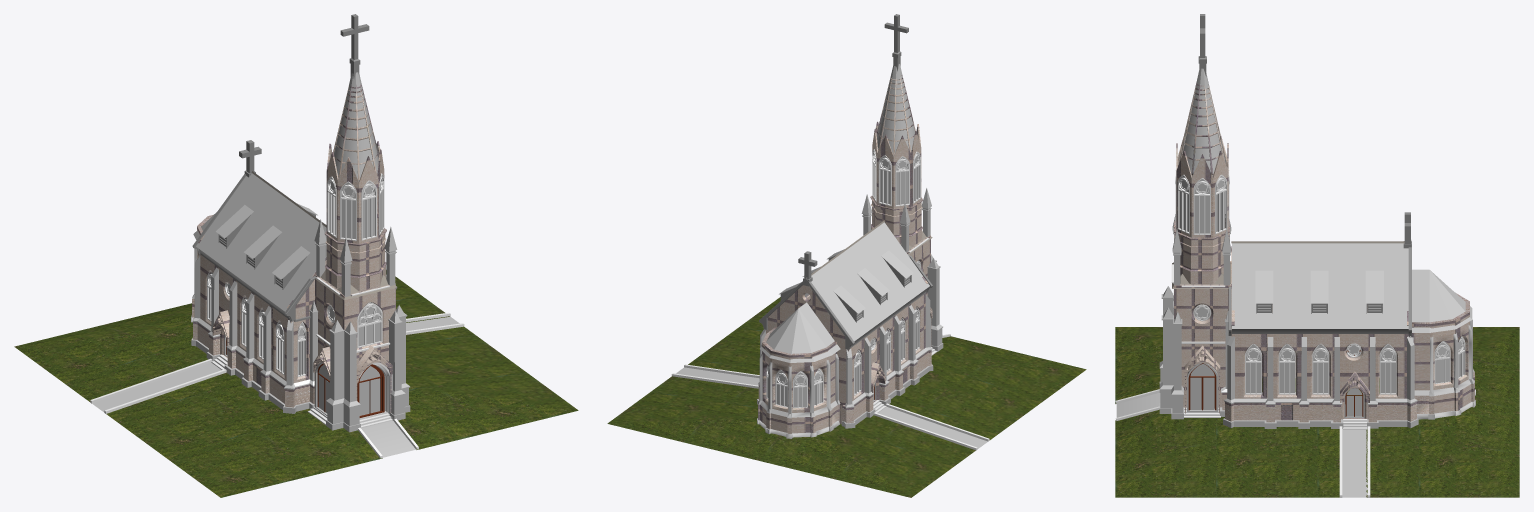
Rendered from Church.FBX.
3 views of the same model, side by side, from view 1: azimuth 30°, elevation 25°; view 2: azimuth 150°, elevation 25°; view 3: azimuth 270°, elevation 25° (orthographic). The views are drawn at different scales.
Visible parts, largest first — view 1: Plane002, Group001, STUTROOF, STUTBURE, STUTSTNA (×2), STUTMAIN, STUTSTFR, STUTBEFL, Cone001, STUTGL13; view 2: Plane002, Group001, STUTROOF, STUTMAIN, STUTAPSE, STUTSTNA (×2), STUTBURE, STUTROO1, Cone001, STUTGL13, STUTBEFL; view 3: Plane002, Group001, STUTROOF, STUTMAIN, STUTSTNA (×2), STUTBURE, STUTSTFR, STUTAPSE, STUTGL13, STUTROO1, Cone001, STUTBEFL (+2 smaller).
Boxes of the visible parts, bbox=[...] form: Plane002: bbox=[14, 270, 578, 497]; Group001: bbox=[90, 83, 464, 458]; STUTROOF: bbox=[196, 173, 326, 311]; STUTBURE: bbox=[207, 173, 392, 427]; STUTSTNA (×2): bbox=[192, 14, 397, 407]; STUTMAIN: bbox=[198, 235, 362, 383]; STUTSTFR: bbox=[315, 274, 395, 381]; STUTBEFL: bbox=[324, 228, 386, 290]; Cone001: bbox=[334, 72, 378, 180]; STUTGL13: bbox=[209, 272, 380, 374]; Plane002: bbox=[607, 297, 1086, 497]; Group001: bbox=[671, 75, 989, 450]; STUTROOF: bbox=[779, 222, 929, 341]; STUTMAIN: bbox=[764, 276, 927, 424]; STUTAPSE: bbox=[758, 327, 840, 433]; STUTSTNA (×2): bbox=[758, 14, 932, 423]; STUTBURE: bbox=[766, 149, 937, 413]; STUTROO1: bbox=[759, 302, 840, 362]; Cone001: bbox=[877, 64, 914, 155]; STUTGL13: bbox=[776, 261, 919, 407]; STUTBEFL: bbox=[870, 196, 923, 246]; Plane002: bbox=[1115, 327, 1519, 497]; Group001: bbox=[1115, 82, 1475, 497]; STUTROOF: bbox=[1232, 243, 1408, 328]; STUTMAIN: bbox=[1231, 246, 1410, 419]; STUTSTNA (×2): bbox=[1198, 14, 1416, 422]; STUTBURE: bbox=[1171, 167, 1465, 429]; STUTSTFR: bbox=[1174, 261, 1231, 407]; STUTAPSE: bbox=[1411, 293, 1474, 414]; STUTGL13: bbox=[1193, 304, 1463, 393]; STUTROO1: bbox=[1412, 269, 1472, 332]; Cone001: bbox=[1179, 68, 1225, 175]; STUTBEFL: bbox=[1174, 221, 1229, 284].
Size of the model in its own units: 30038 by 32515 by 30000.
